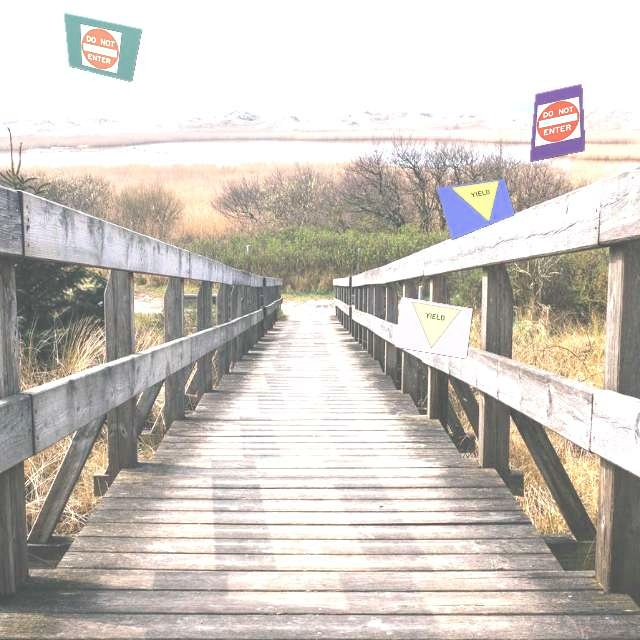DO_NOT_ENTER: (535, 96, 581, 147), (77, 24, 122, 74)
YIELD: (450, 179, 509, 234), (407, 302, 461, 352)
